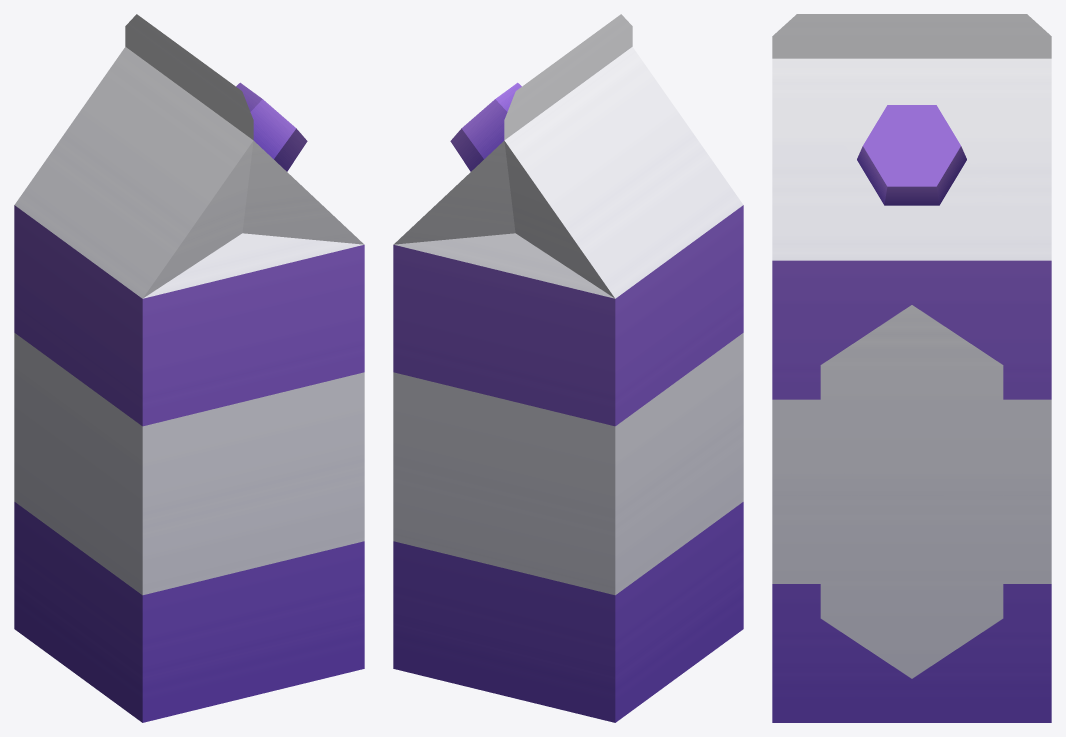
File: DrinkCarton.obj
3 renders of one model, left to right at view 1: azimuth 30°, elevation 25°; view 2: azimuth 150°, elevation 25°; view 3: azimuth 270°, elevation 25°, orthographic. The views are drawn at different scales.
Visible parts, largest first — view 1: carton; view 2: carton; view 3: carton.
Part boxes in pixels (left/top/right/bottom): carton: left=14, top=14, right=364, bottom=722; carton: left=393, top=14, right=743, bottom=722; carton: left=772, top=14, right=1051, bottom=722.
Size of the model in its own units: 0.0805 by 0.2067 by 0.0805.
1 material, 1 textured.
